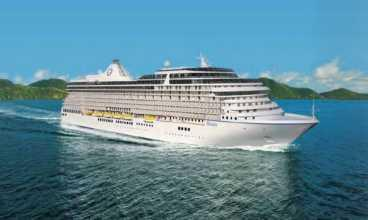youlun: (61, 53, 322, 155)
